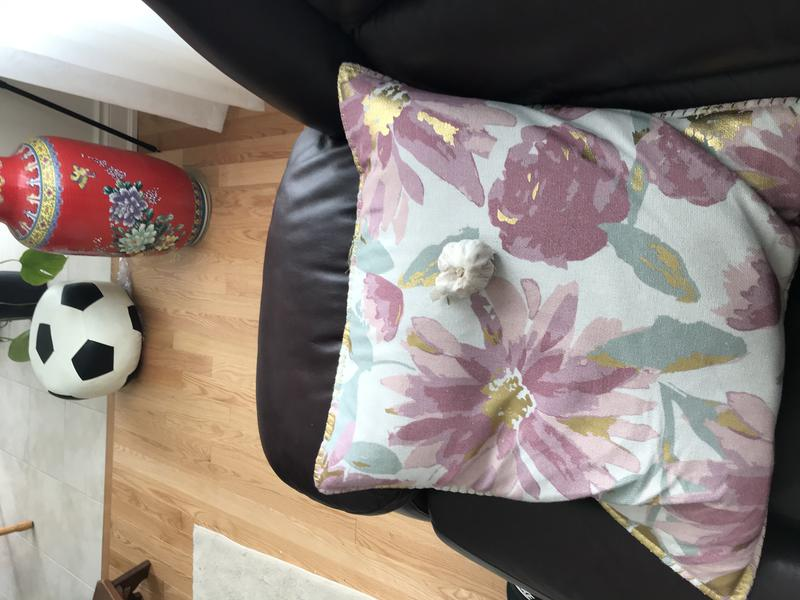garlic: (434, 235, 499, 299)
